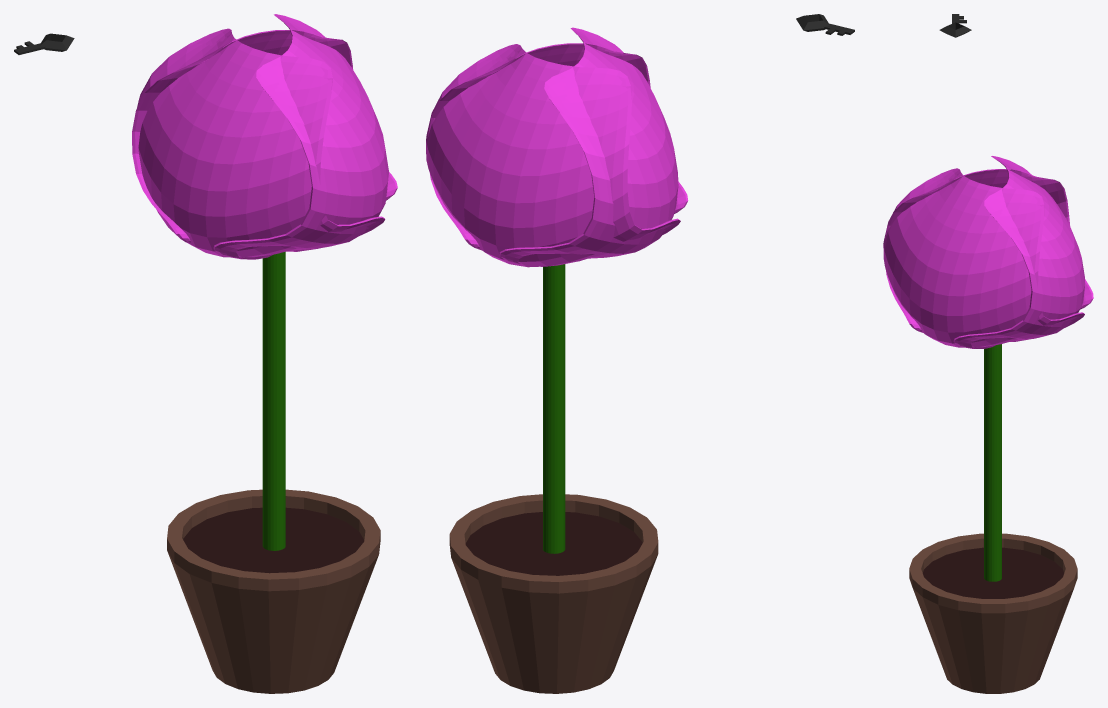
Rendered from flower 1.fbx.
3 views of the same model, side by side, from view 1: azimuth 30°, elevation 25°; view 2: azimuth 150°, elevation 25°; view 3: azimuth 270°, elevation 25° (orthographic). The views are drawn at different scales.
Visible parts, largest first — view 1: 柱体, 花瓣, 花瓣.001, 球体, 花瓣.002, 钥匙; view 2: 花瓣.002, 柱体, 花瓣, 球体, 花瓣.001, 钥匙; view 3: 花瓣.001, 柱体, 花瓣.002, 球体, 花瓣, 钥匙.
Boxes of the visible parts, left/top/right/bottom form: 柱体: left=167, top=489, right=380, bottom=693; 花瓣: left=137, top=28, right=385, bottom=257; 花瓣.001: left=213, top=14, right=388, bottom=259; 球体: left=262, top=251, right=285, bottom=550; 花瓣.002: left=132, top=30, right=397, bottom=243; 钥匙: left=14, top=33, right=74, bottom=54; 花瓣.002: left=426, top=44, right=680, bottom=267; 柱体: left=449, top=494, right=658, bottom=693; 花瓣: left=499, top=27, right=678, bottom=266; 球体: left=543, top=264, right=565, bottom=553; 花瓣.001: left=428, top=43, right=688, bottom=250; 钥匙: left=796, top=14, right=854, bottom=35; 花瓣.001: left=883, top=168, right=1084, bottom=347; 柱体: left=909, top=533, right=1077, bottom=693; 花瓣.002: left=953, top=156, right=1084, bottom=348; 球体: left=984, top=344, right=1001, bottom=581; 花瓣: left=885, top=169, right=1093, bottom=332; 钥匙: left=939, top=14, right=971, bottom=37.
Size of the model in its own units: 254 by 442 by 152.
